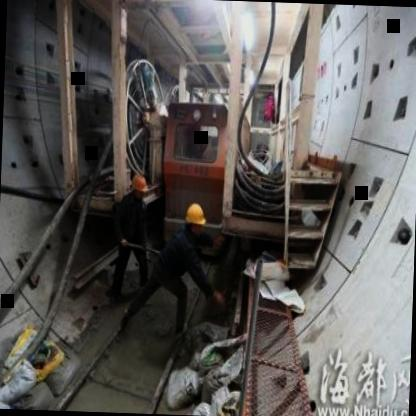helmet: (184, 199, 207, 241), (126, 172, 150, 203)
